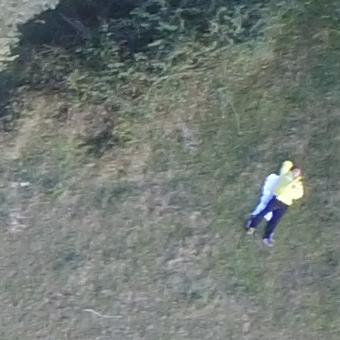human: (248, 160, 306, 249)
